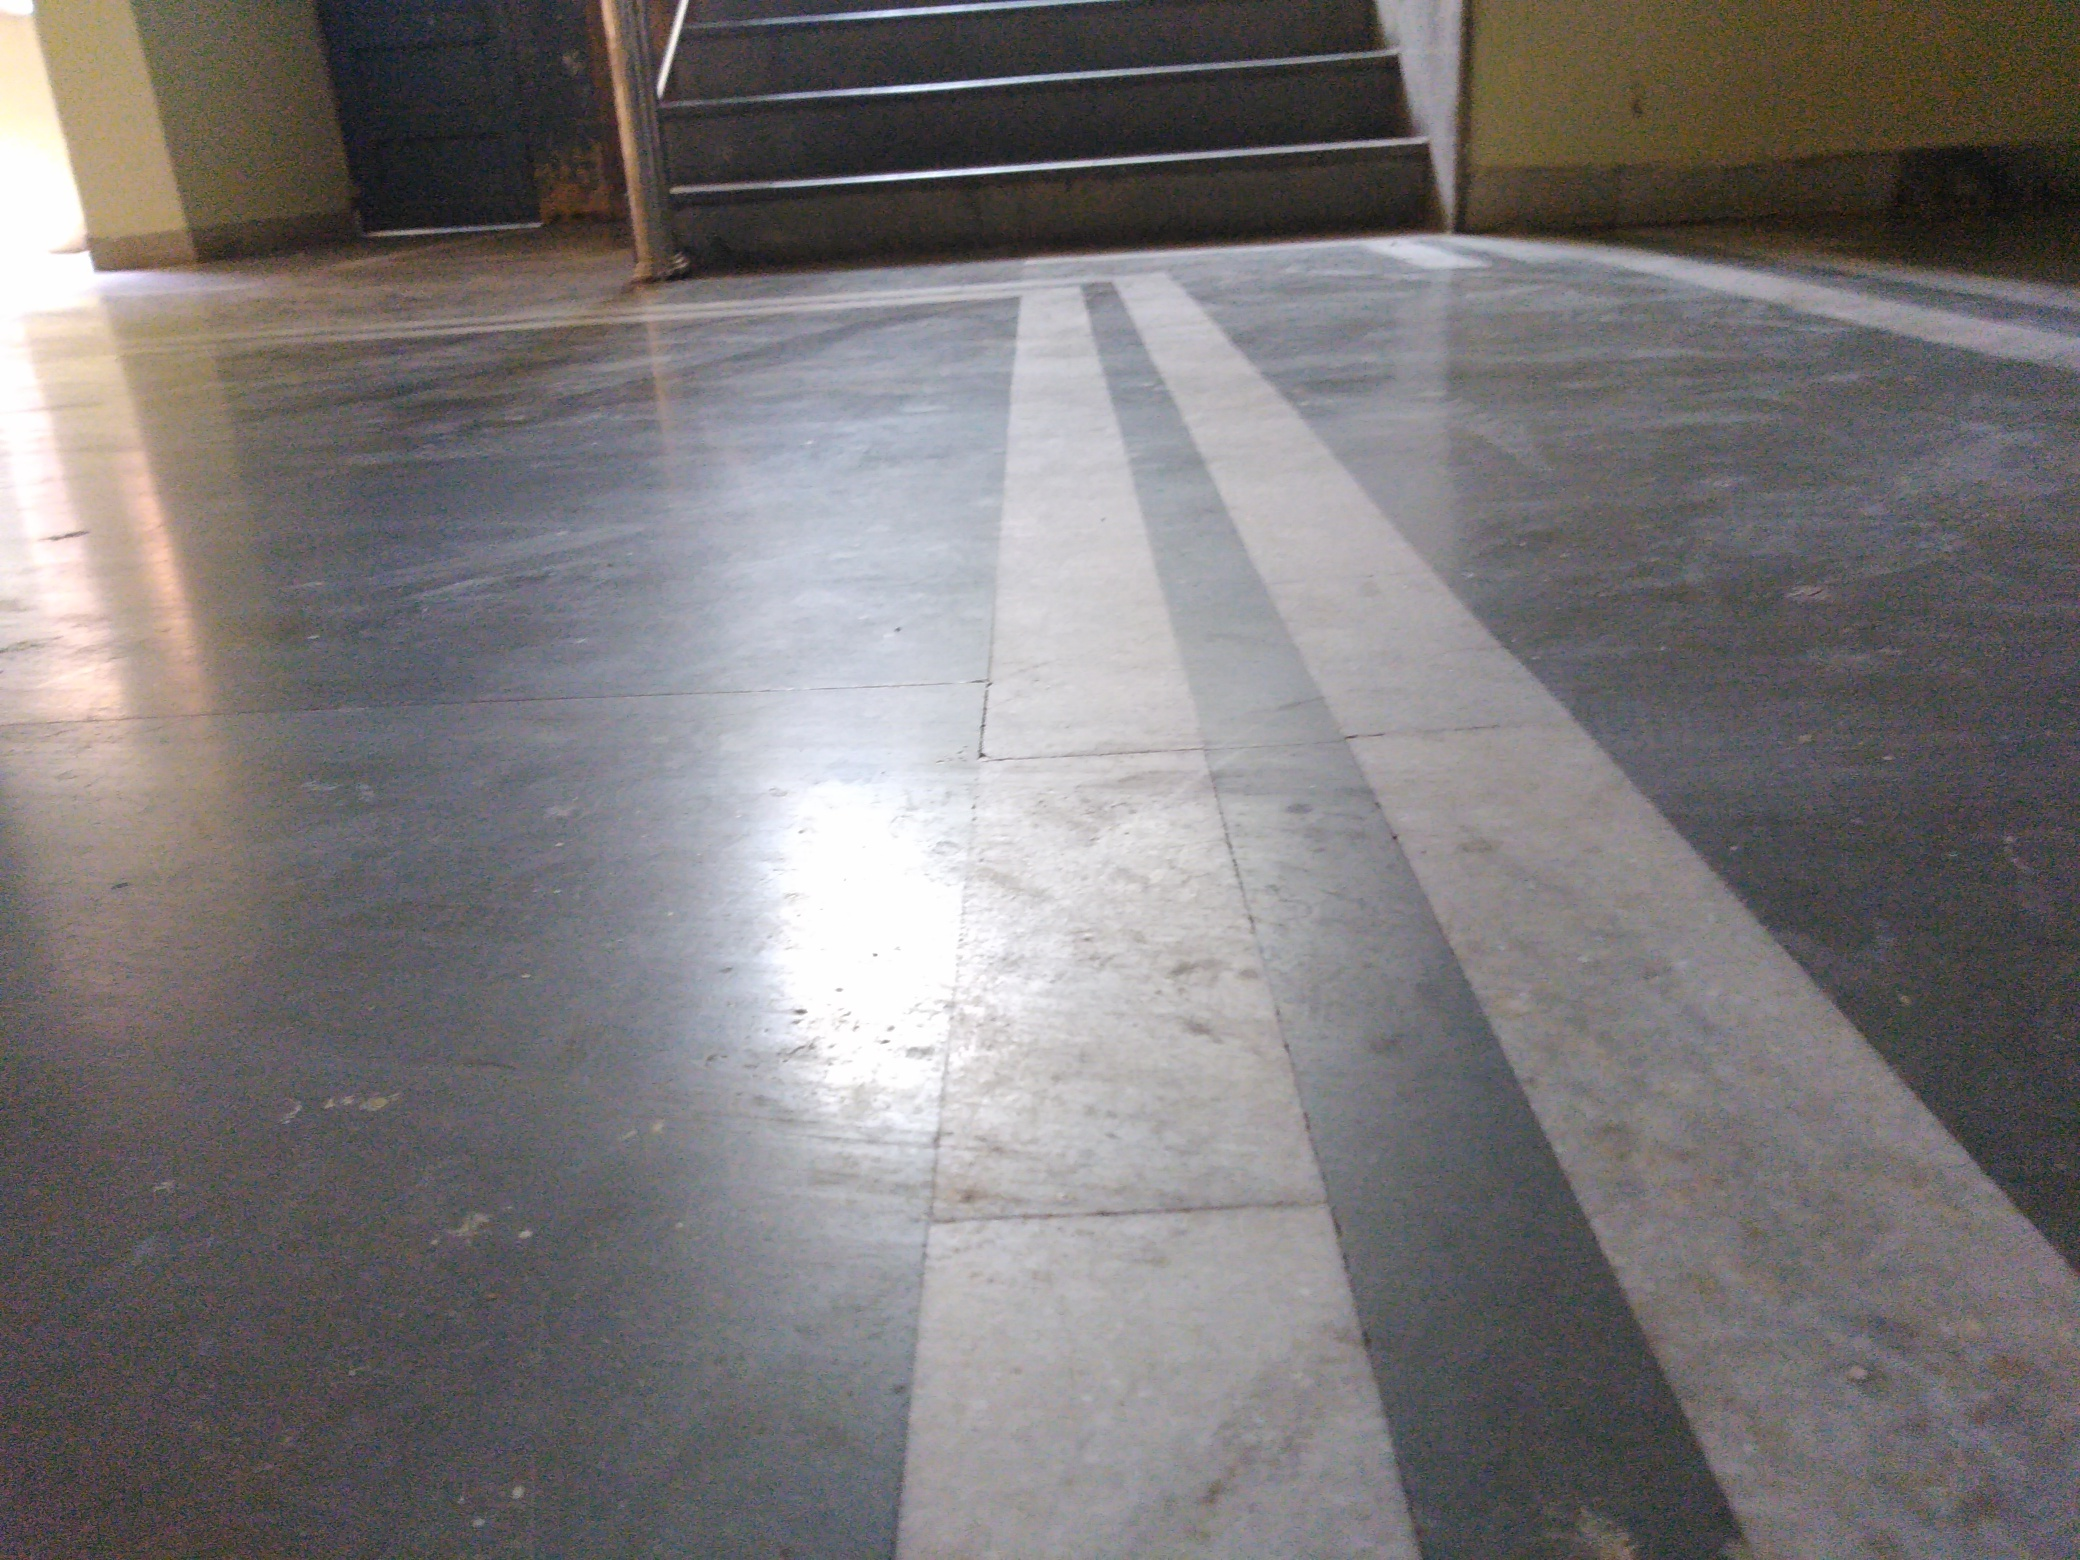stairs_up: (663, 11, 1436, 238)
